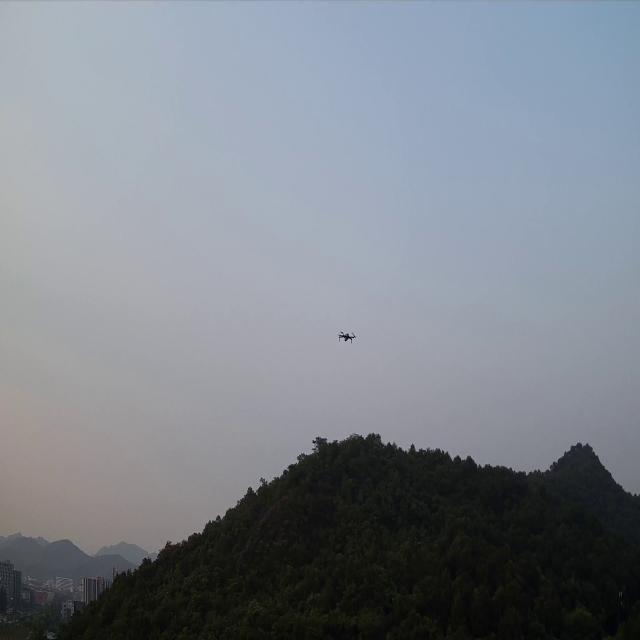UAV: (336, 330, 356, 343)
